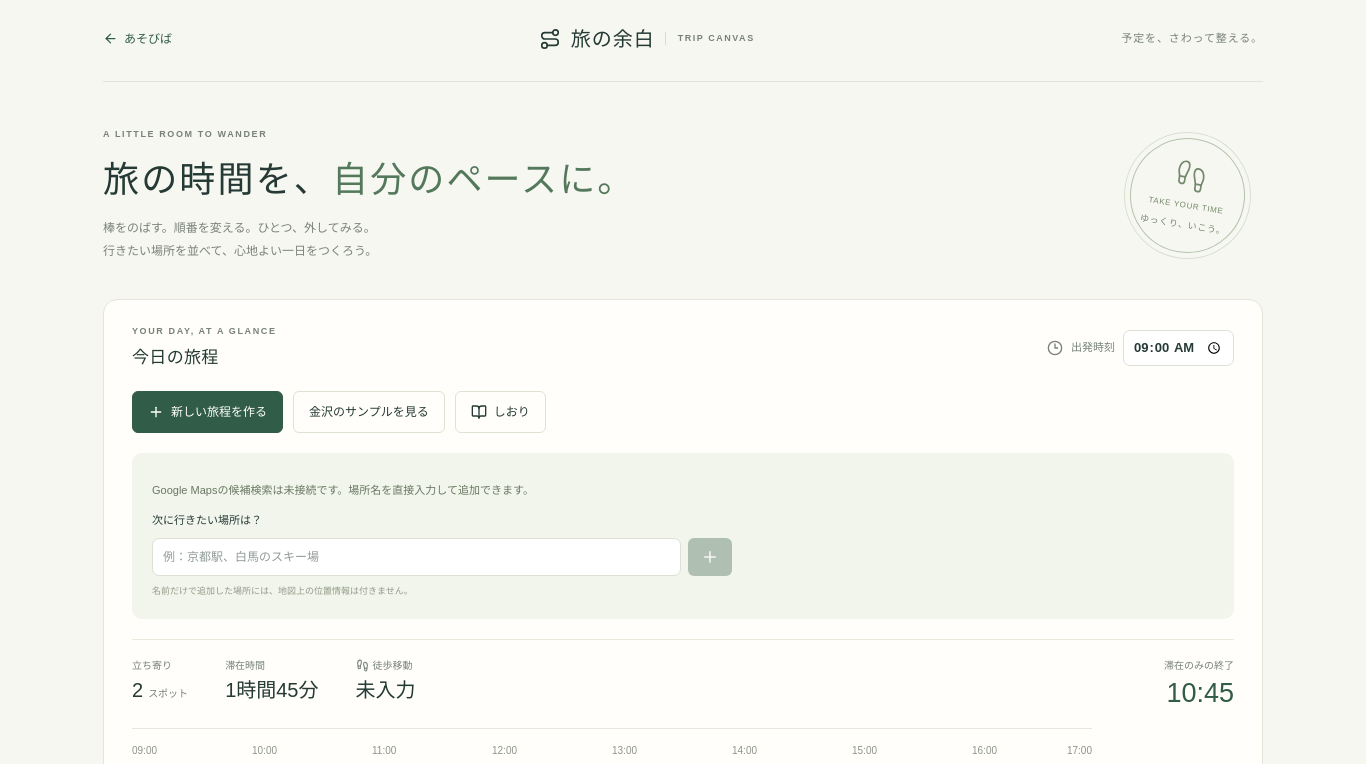
it: 紙のしおり › 移動時間が未入力なら、しおりでも目安の時刻と未入力区間を明示する
The width and height of the screenshot is (1366, 764).
Step 1. Click the button "しおり" → (500, 412), box 455,391 -> 546,433
(page scrolled)
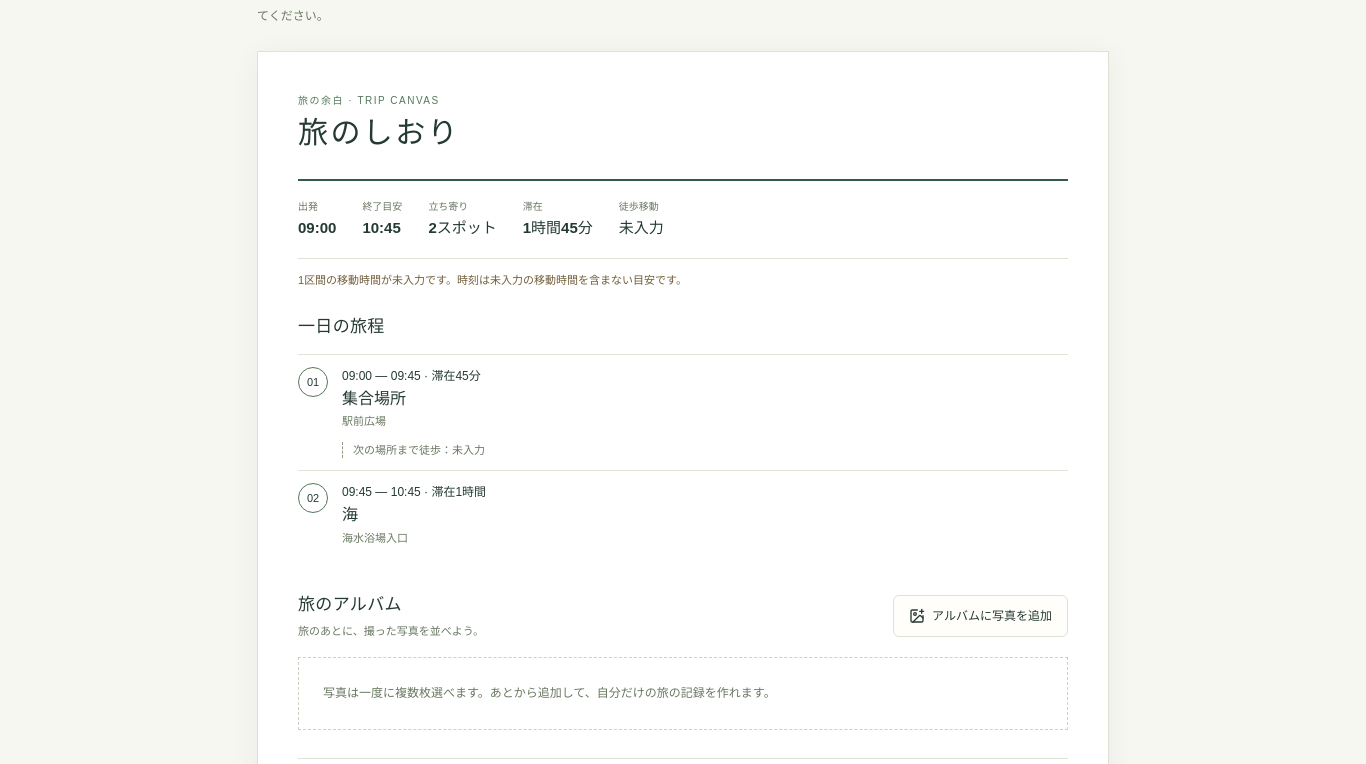
Expected: the element named "旅のしおり" shows "終了目安", 362,201 -> 402,212
